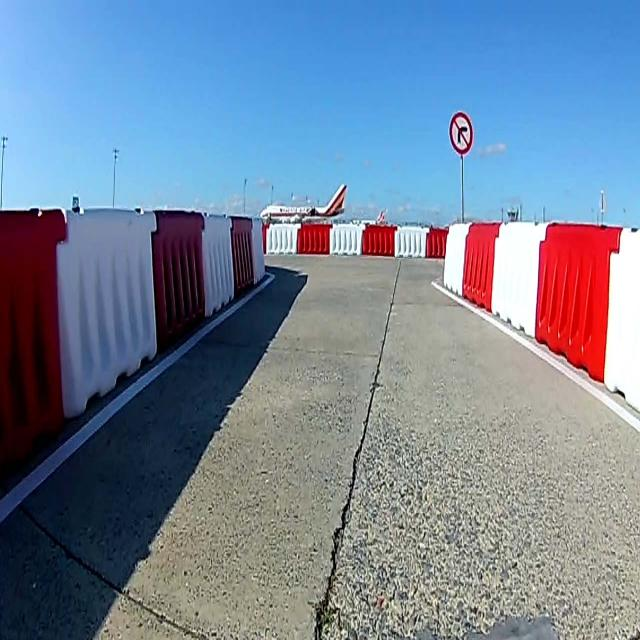sagadonulmez: (450, 113, 473, 154)
